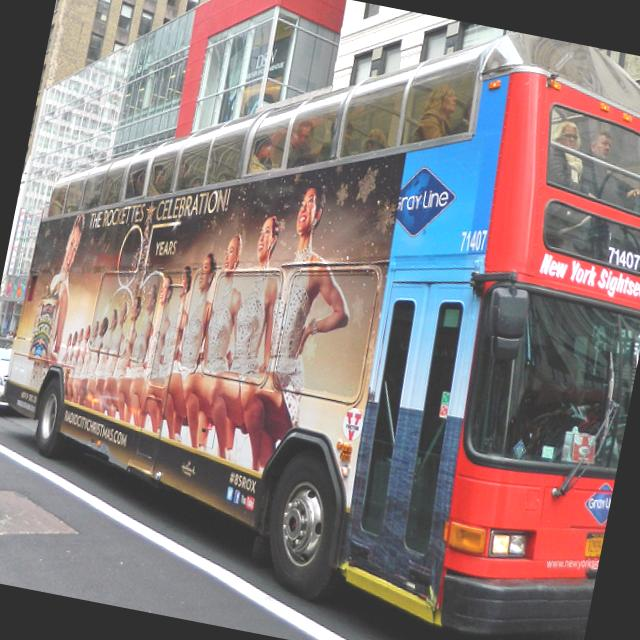Vehicle: (0, 0, 640, 640), (0, 339, 20, 408)
